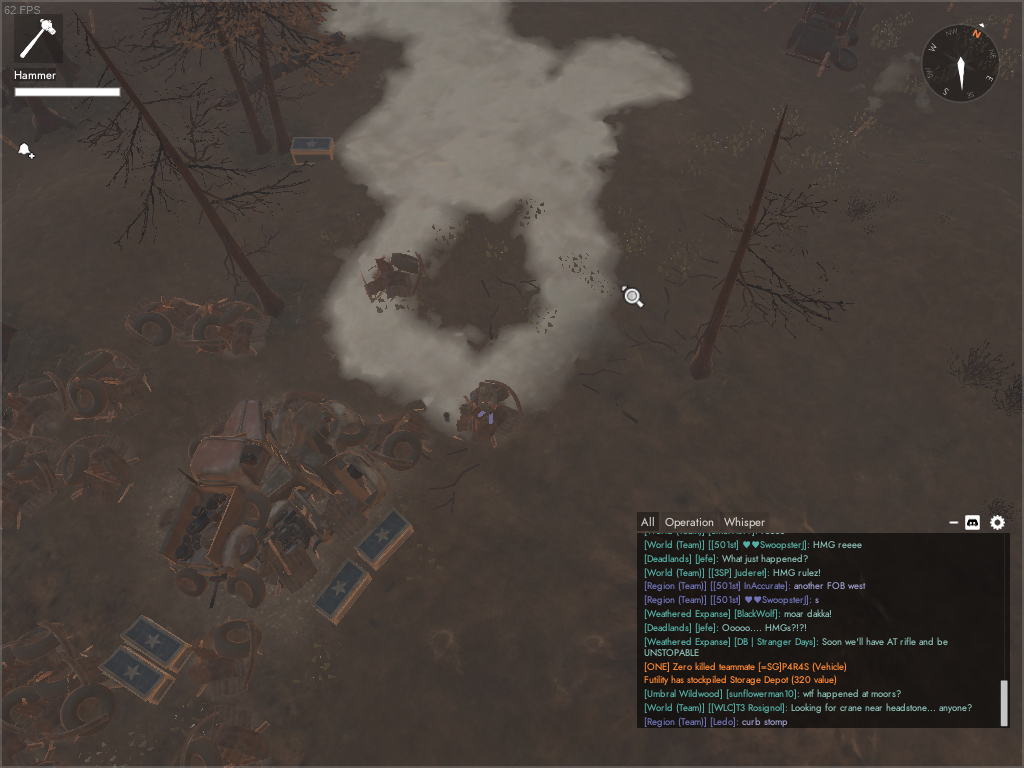player: (470, 380, 503, 426)
scrap: (1, 615, 121, 764), (127, 287, 266, 360), (3, 370, 60, 533), (62, 346, 157, 424), (59, 433, 142, 507), (189, 617, 266, 696), (180, 704, 274, 768), (454, 374, 529, 452), (363, 396, 438, 472), (356, 244, 433, 314)
scrapyard: (153, 385, 394, 609)
storage_box: (119, 612, 200, 679), (97, 646, 181, 708), (310, 562, 379, 628), (350, 511, 418, 574), (286, 133, 340, 169)
